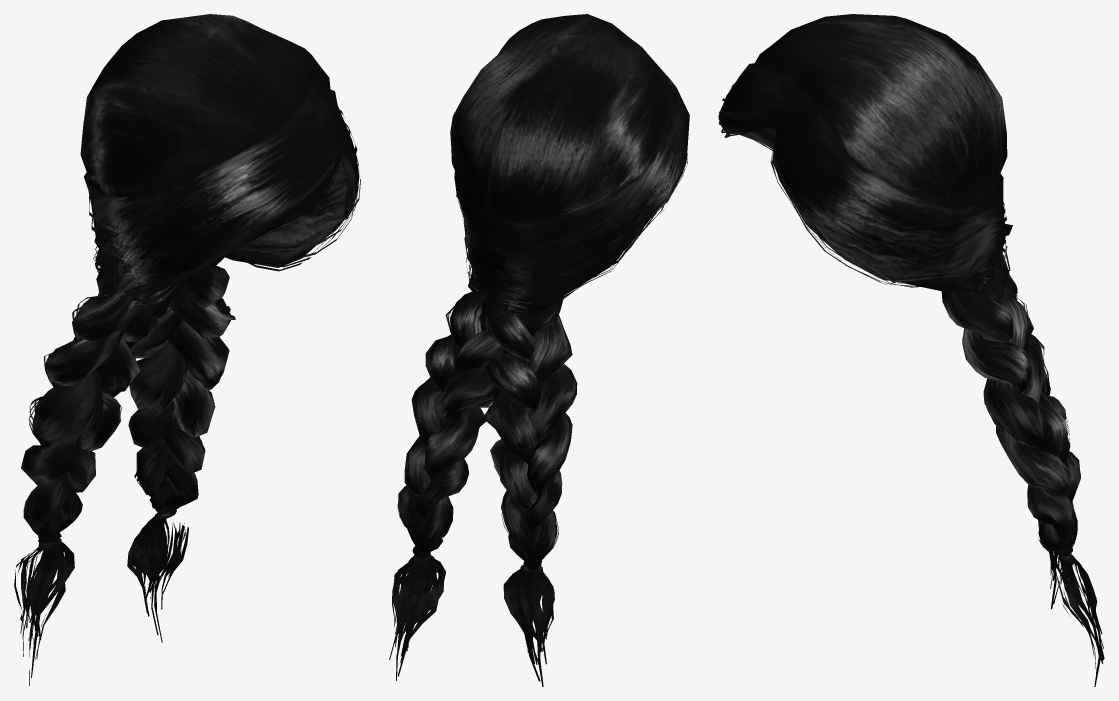
Rendered from mh_elvs_double_mh_braid.glb.
3 views of the same model, side by side, from view 1: azimuth 30°, elevation 25°; view 2: azimuth 150°, elevation 25°; view 3: azimuth 270°, elevation 25° (orthographic). The views are drawn at different scales.
Parts seen in each view (by area): view 1: mh_elvs_double_mh_braid; view 2: mh_elvs_double_mh_braid; view 3: mh_elvs_double_mh_braid.
Part boxes in pixels (x1,y1,x2,y2): mh_elvs_double_mh_braid: [14, 14, 360, 685]; mh_elvs_double_mh_braid: [389, 14, 689, 686]; mh_elvs_double_mh_braid: [718, 14, 1104, 686].
Size of the model in its own units: 0.2008 by 0.616 by 0.3408.
1 material, 1 textured.
